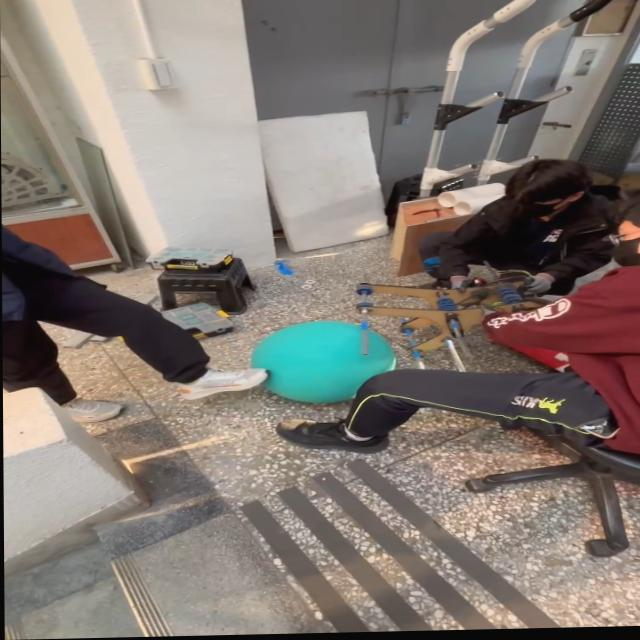ALGAE: (247, 317, 398, 407)
